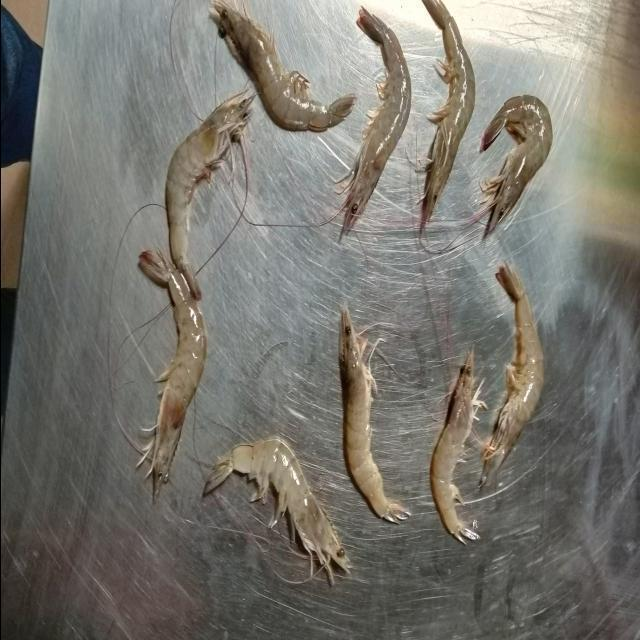shrimp: (139, 95, 249, 494), (205, 436, 348, 580), (212, 2, 352, 131), (341, 9, 410, 232), (339, 308, 406, 522), (482, 272, 542, 478), (421, 0, 474, 226), (481, 95, 551, 235), (430, 354, 481, 542)
